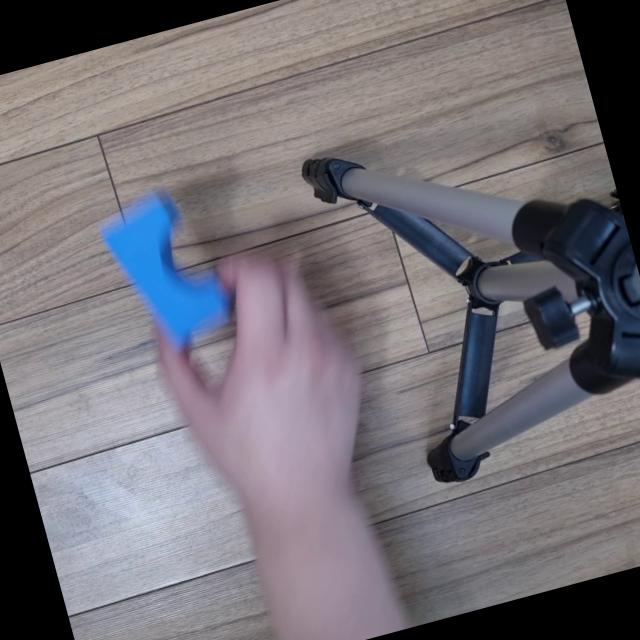block: (84, 172, 244, 366)
hand: (148, 228, 402, 514)
